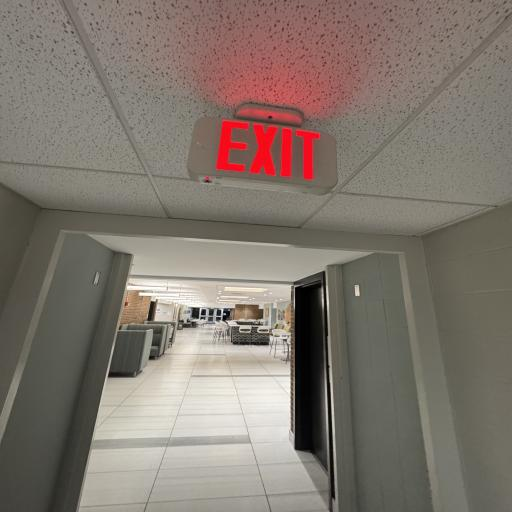doorway: (38, 209, 465, 512)
exit sign: (180, 96, 350, 201)
